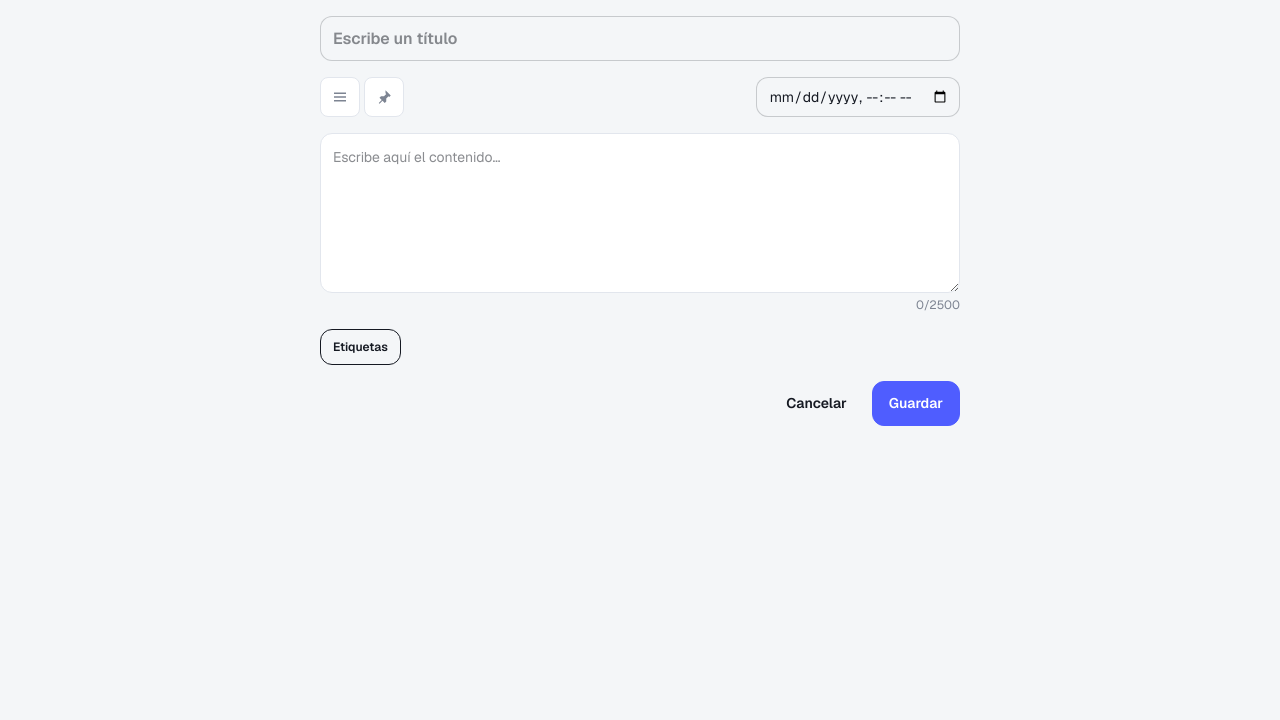
Test: NoteEditor › pide confirmación al salir con cambios (RF-14)
This screenshot has width=1280, height=720.
In the field labelled "título": (640, 38) [320,16,960,61], type "algo"
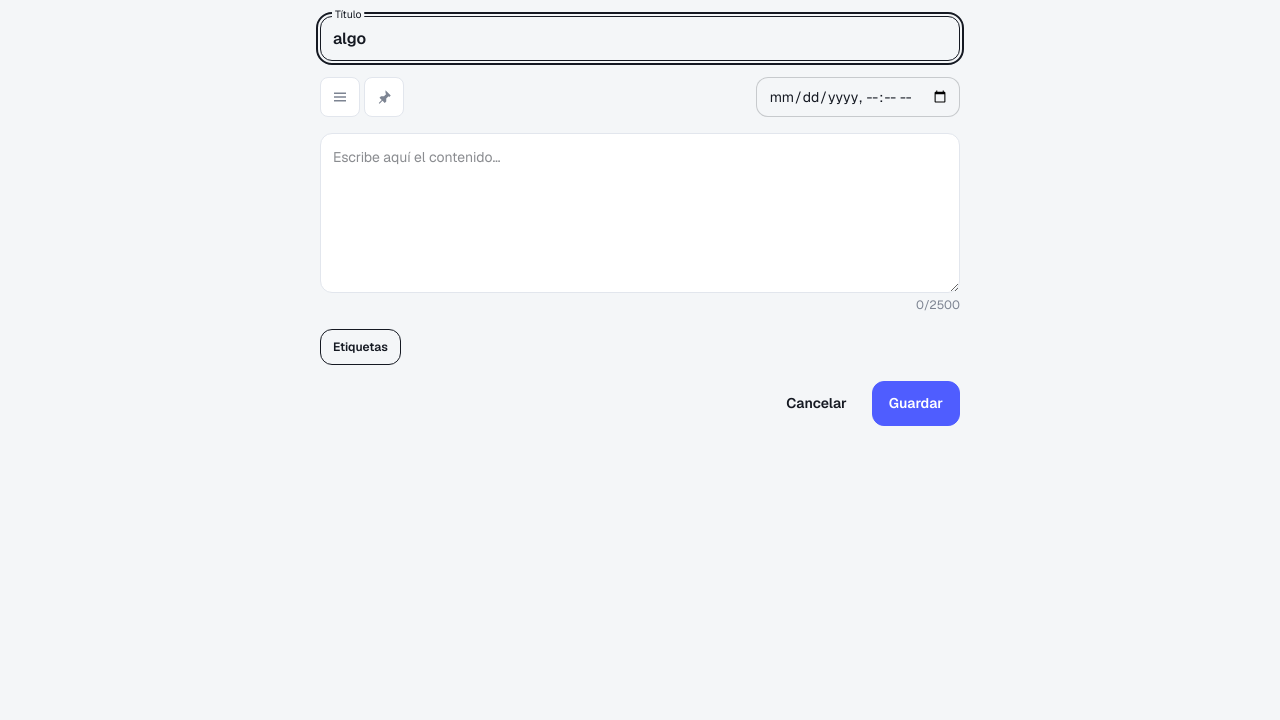
Click the button "Cancelar": (817, 404) [769,381,864,426]
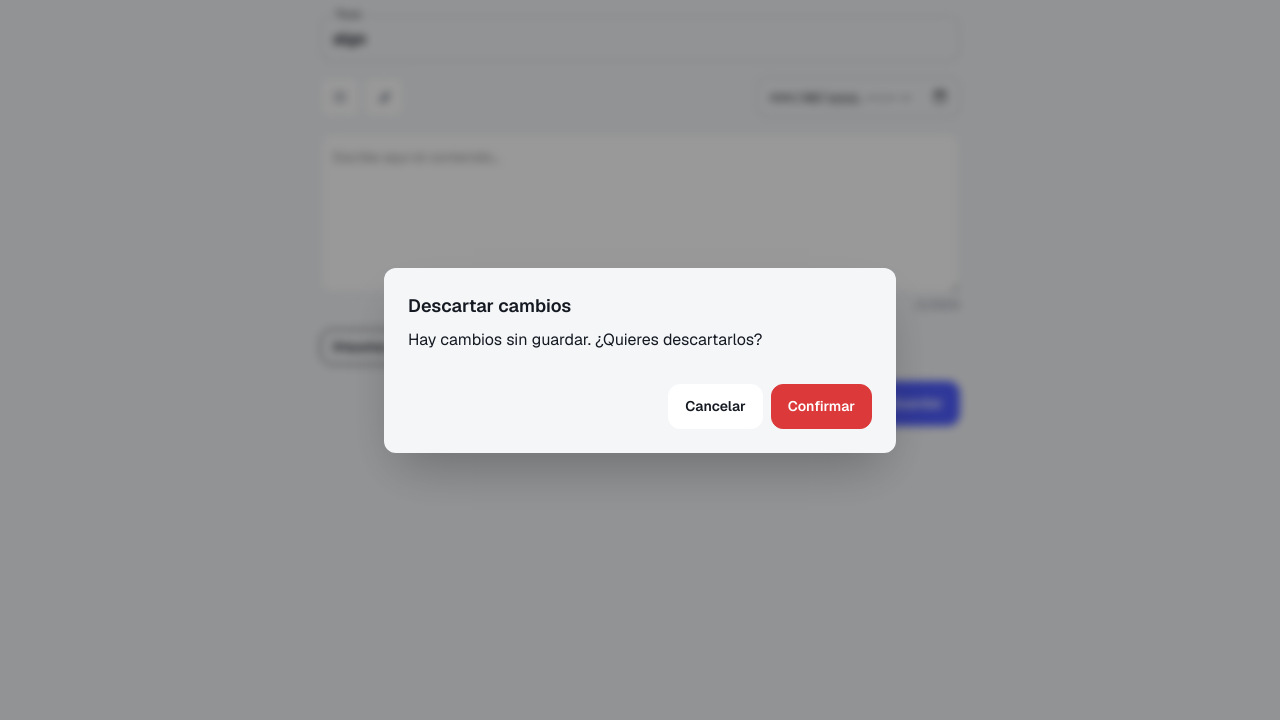
expect the dialog "Descartar cambios" is shown: met
